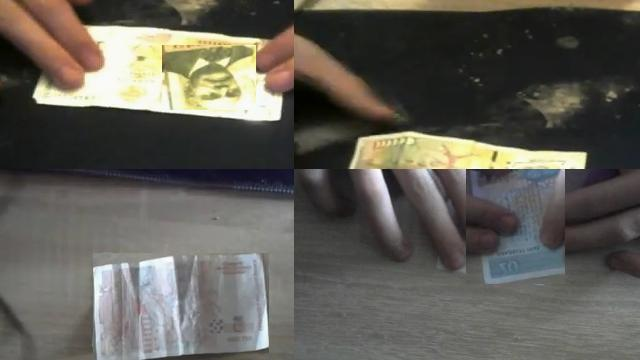10leva: (162, 45, 256, 110), (521, 162, 560, 169)
20leva: (466, 169, 561, 284)
5leva: (93, 253, 269, 360)
